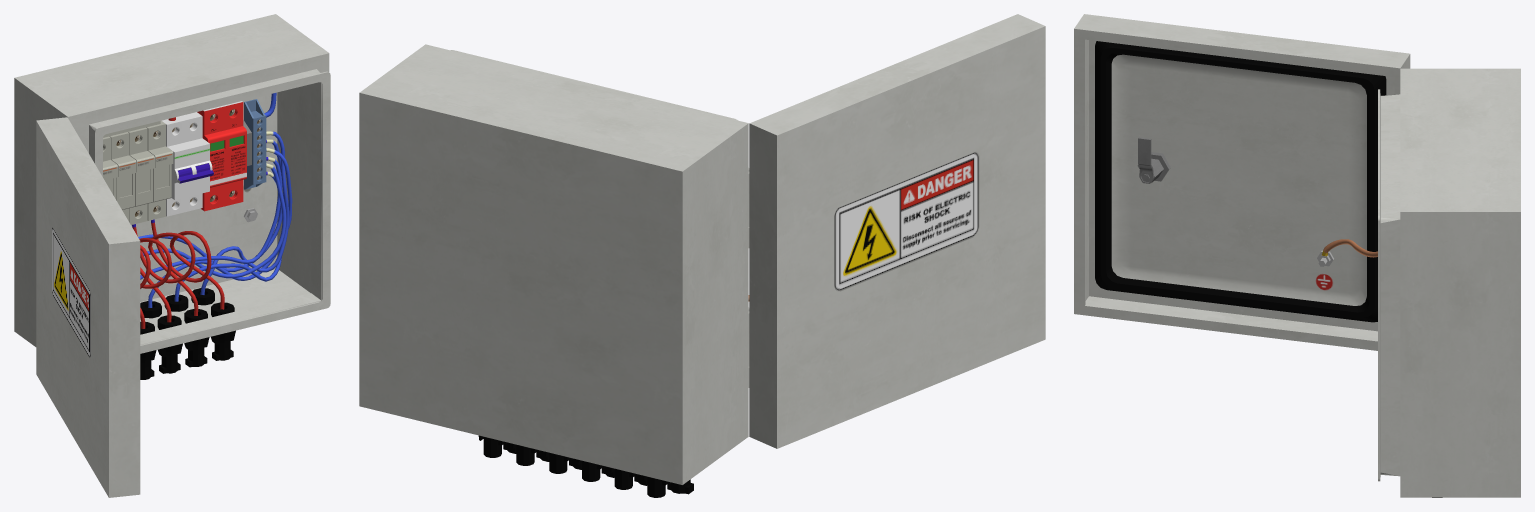
File: Combiner Box.fbx
3 renders of one model, left to right at view 1: azimuth 30°, elevation 25°; view 2: azimuth 150°, elevation 25°; view 3: azimuth 270°, elevation 25°, orthographic. The views are drawn at different scales.
Parts seen in each view (by area): view 1: MetalBox, MetalDoor, Surge_Protector, BoxBack, Isolator, Fuse6, Fuse5, Neutral_Bar, Fuse4, RedCable6, BlueCable6, RedCable5 (+12 smaller); view 2: MetalBox, MetalDoor; view 3: WaterproofRubber, MetalBox, MetalDoor, Screw6, Screw5.
Part boxes in pixels (bbox=[...]): MetalBox: bbox=[14, 14, 330, 353]; MetalDoor: bbox=[36, 117, 140, 497]; Surge_Protector: bbox=[197, 101, 246, 211]; BoxBack: bbox=[131, 95, 264, 264]; Isolator: bbox=[162, 112, 212, 216]; Fuse6: bbox=[146, 120, 173, 220]; Fuse5: bbox=[128, 127, 154, 224]; Neutral_Bar: bbox=[244, 99, 266, 189]; Fuse4: bbox=[109, 132, 136, 221]; RedCable6: bbox=[151, 219, 224, 309]; BlueCable6: bbox=[200, 131, 289, 294]; RedCable5: bbox=[132, 224, 198, 315]; MetalBox: bbox=[359, 44, 748, 484]; MetalDoor: bbox=[749, 14, 1045, 448]; WaterproofRubber: bbox=[1095, 41, 1386, 322]; MetalBox: bbox=[1378, 68, 1520, 497]; MetalDoor: bbox=[1074, 14, 1410, 350]; Screw6: bbox=[1138, 137, 1153, 183]; Screw5: bbox=[1137, 152, 1170, 183].
Bounding box in the file's own units: 4.09 × 3.18 × 3.89.
Materials: 1 (1 with a texture image).
